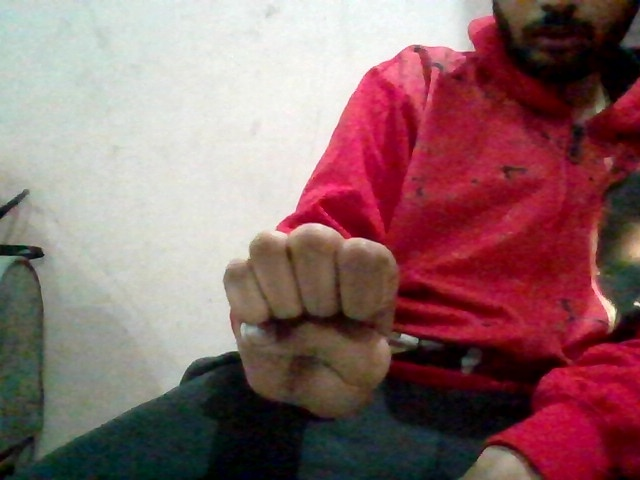E: (200, 218, 430, 424)
